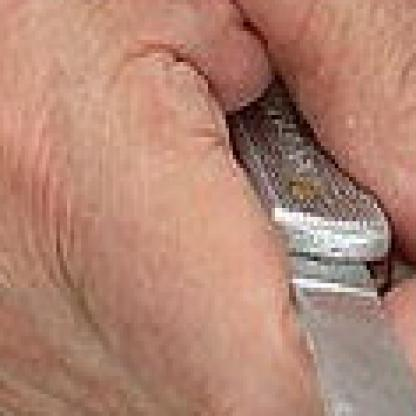knife: (173, 58, 412, 412)
